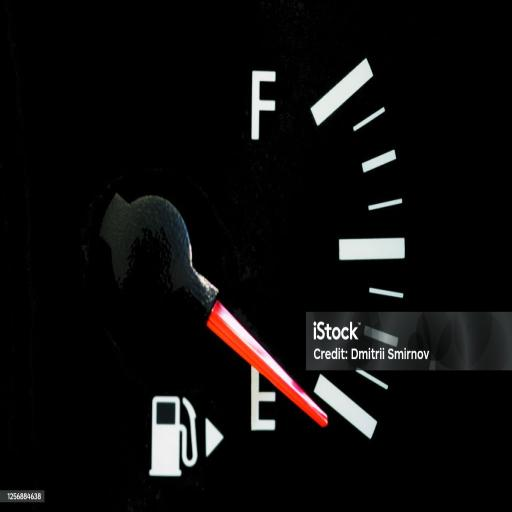empty: (245, 367, 282, 432)
fuel_icon: (144, 393, 196, 481)
full: (245, 65, 286, 147)
guage_area: (91, 33, 411, 485)
needle_center: (95, 186, 221, 333)
needle_tip: (312, 400, 329, 431)
